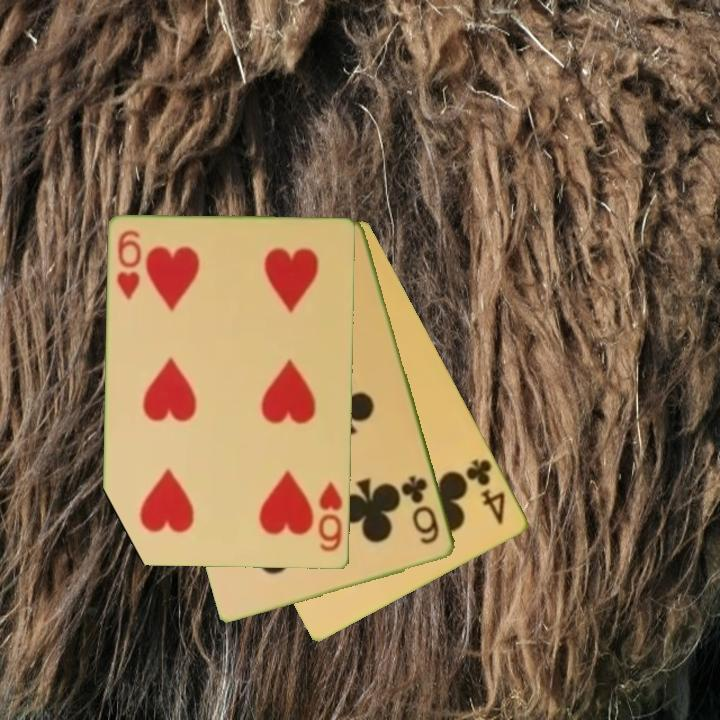4c: (462, 455, 509, 528)
6c: (399, 472, 443, 548)
6h: (315, 479, 346, 555), (114, 227, 145, 303)
